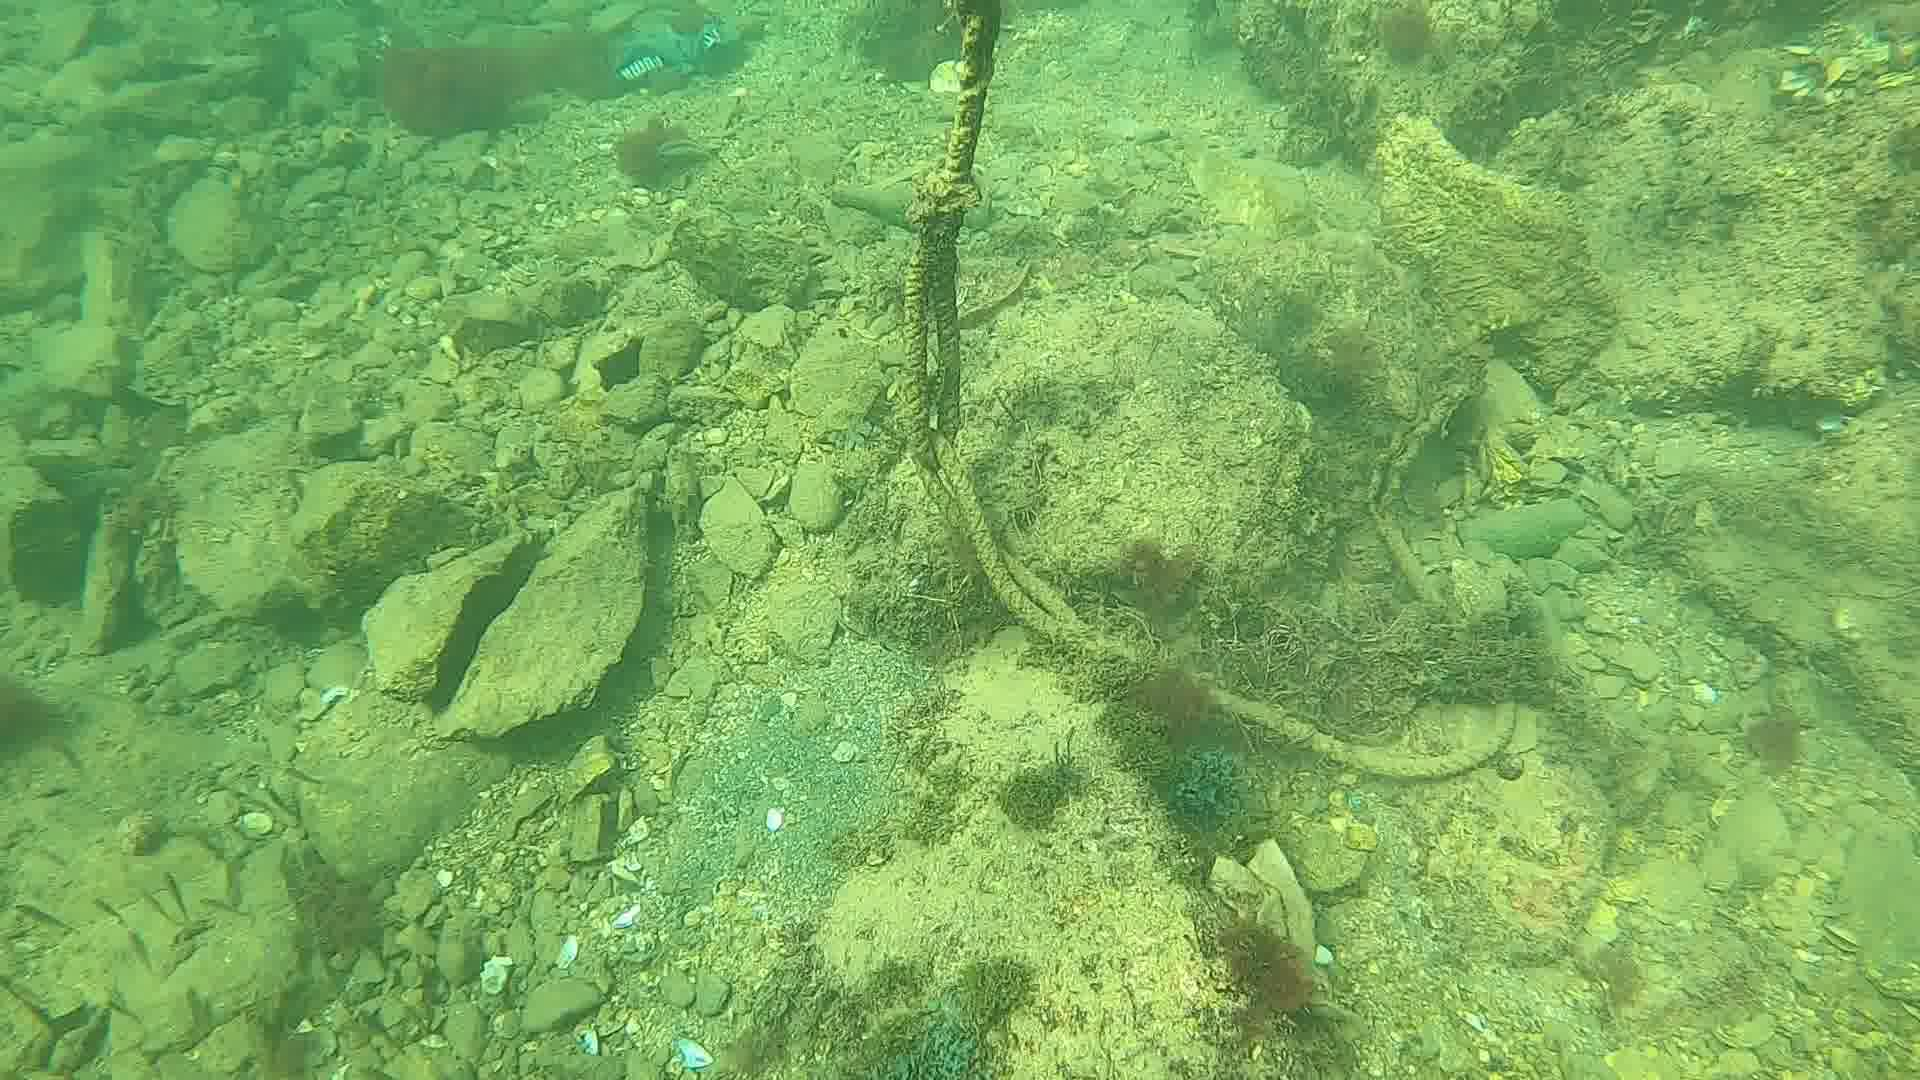bundle of ropes: (897, 0, 1516, 775)
